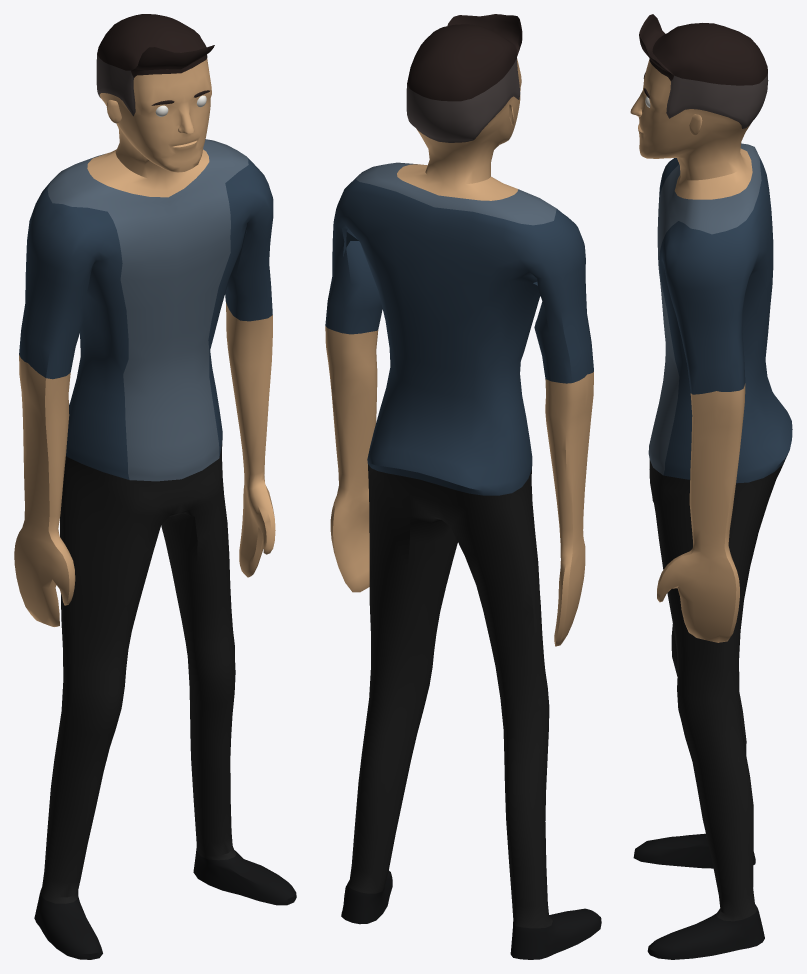
File: smooth_male_shirt.glb
3 views of the same model, side by side, from view 1: azimuth 30°, elevation 25°; view 2: azimuth 150°, elevation 25°; view 3: azimuth 270°, elevation 25° (orthographic).
Visible parts, largest first — view 1: SmoothMaleShirt; view 2: SmoothMaleShirt; view 3: SmoothMaleShirt.
Boxes of the visible parts, left/top/right/bottom form: SmoothMaleShirt: left=14, top=14, right=296, bottom=959; SmoothMaleShirt: left=325, top=14, right=601, bottom=959; SmoothMaleShirt: left=630, top=14, right=792, bottom=959.
Bounding box in the file's own units: 0.5247 × 1.8 × 0.3024.
